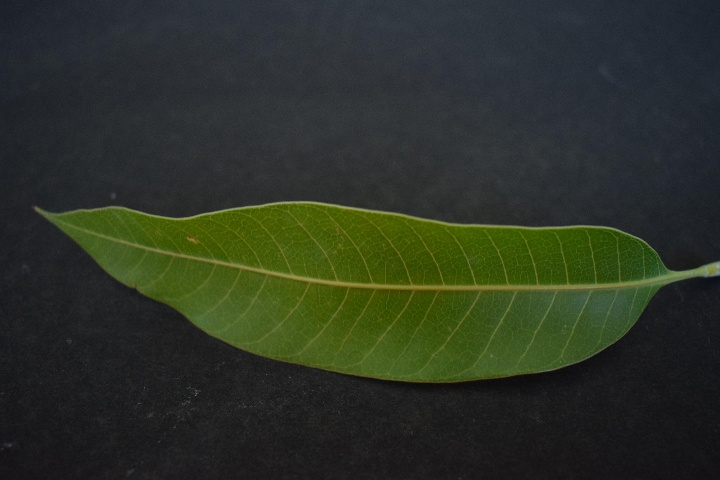healthy: (30, 159, 681, 382)
